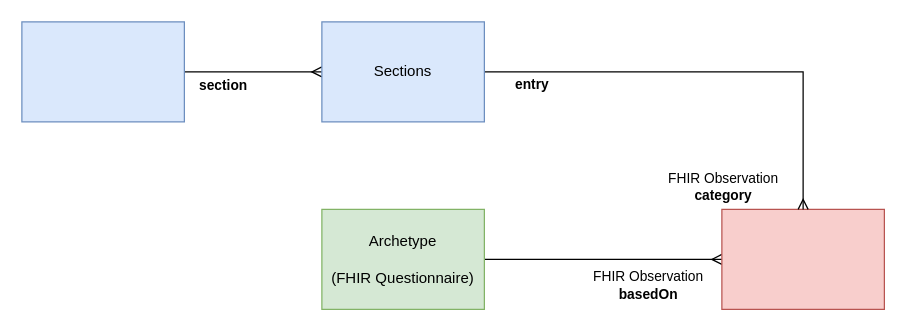
Image size: 906x331. Some labels were removed from this diagram. Each missing label, with the box of its shape:
Composition (FHIR Composition): (21, 21, 184, 122)
Entity (FHIR Resource): (721, 208, 884, 309)
